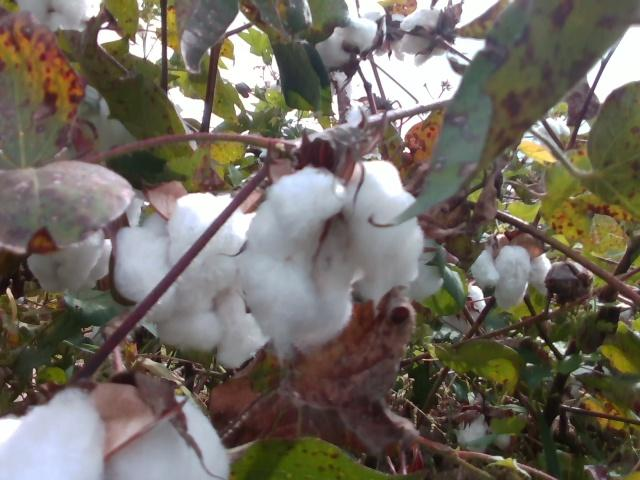cotton_ready: (242, 160, 422, 352), (115, 192, 270, 367), (0, 394, 234, 480), (27, 231, 114, 296), (77, 82, 145, 159), (469, 247, 555, 307), (315, 15, 385, 66), (15, 0, 97, 34), (401, 7, 448, 66), (410, 232, 444, 304), (446, 287, 485, 332), (549, 262, 592, 296), (459, 392, 485, 444)
